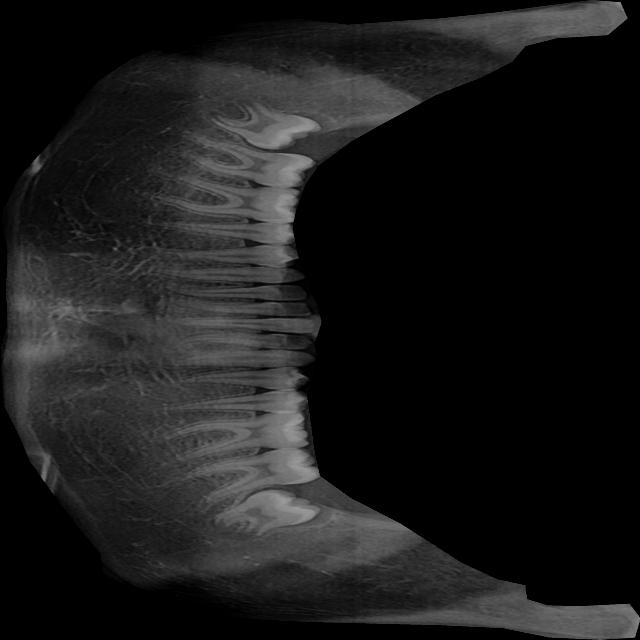mandibula: (0, 0, 640, 640)
